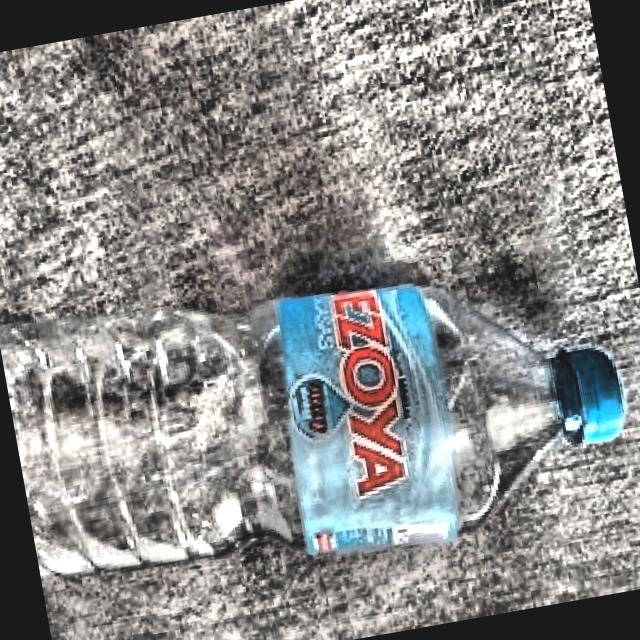plastic bottle: (0, 284, 629, 589)
